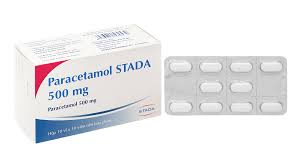Paracetamol: (47, 67, 116, 88)
